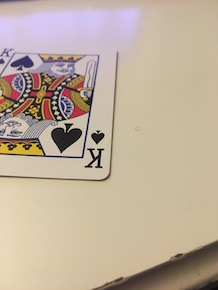KingOfSpades: (1, 35, 125, 185)
